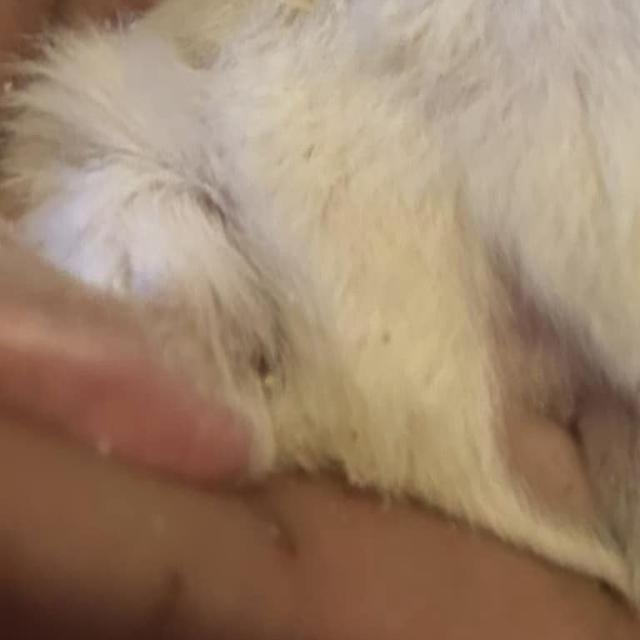fem: (481, 344, 640, 549)
